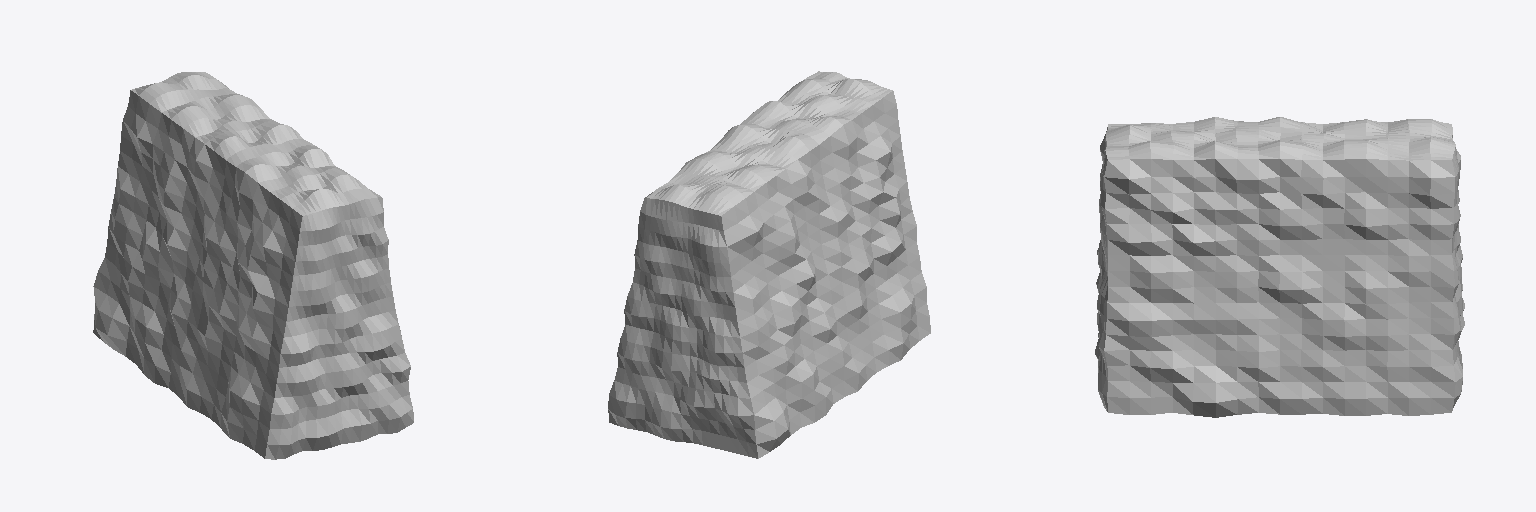
The model's file is stone_wall.obj.
3 views of the same model, side by side, from view 1: azimuth 30°, elevation 25°; view 2: azimuth 150°, elevation 25°; view 3: azimuth 270°, elevation 25° (orthographic).
Parts seen in each view (by area): view 1: Cube_Cube.001; view 2: Cube_Cube.001; view 3: Cube_Cube.001.
Boxes of the visible parts, box(x1,y1,x2,y2) form: Cube_Cube.001: box(93, 72, 413, 459); Cube_Cube.001: box(608, 71, 930, 458); Cube_Cube.001: box(1095, 117, 1464, 417).
Size of the model in its own units: 2.28 by 3.22 by 4.31.